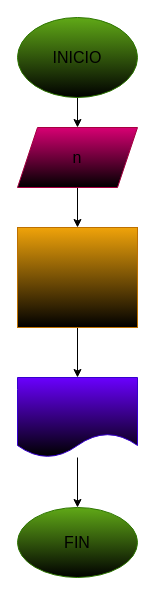
Some shapes in this 155 by 595 pixel diagram are drawn without their labels. The centre of each missing label's shape, as x and y in pixels:
d1=(n%10)*1000 pe=n//10 d2=(pe%10)*100 pe=pe//10 d3=(pe%10)*10 d4=pe//10: [77,277]
in: [77,417]
